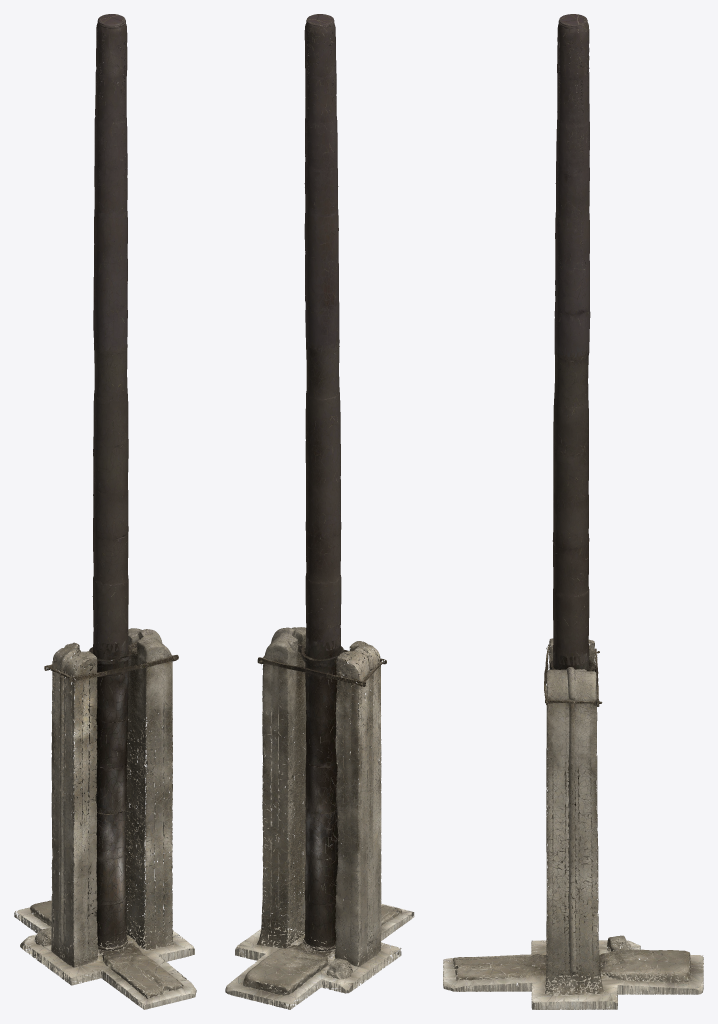
File: cheoldanggan.glb
The picture shows the model from 3 angles, left to right: view 1: azimuth 30°, elevation 25°; view 2: azimuth 150°, elevation 25°; view 3: azimuth 270°, elevation 25°; orthographic projection. The views are drawn at different scales.
Parts seen in each view (by area): view 1: Object_2, Object_4, Object_5, Object_3, Object_6; view 2: Object_4, Object_2, Object_5, Object_3, Object_6; view 3: Object_2, Object_3, Object_5, Object_6, Object_4.
Part boxes in pixels (left/top/right/bottom): Object_2: left=92, top=94, right=128, bottom=652; Object_4: left=19, top=638, right=189, bottom=1004; Object_5: left=15, top=647, right=191, bottom=1009; Object_3: left=14, top=14, right=196, bottom=1009; Object_6: left=61, top=642, right=172, bottom=852; Object_4: left=228, top=636, right=401, bottom=1007; Object_2: left=304, top=91, right=341, bottom=650; Object_5: left=239, top=656, right=414, bottom=1007; Object_3: left=225, top=14, right=413, bottom=1009; Object_6: left=262, top=641, right=386, bottom=852; Object_2: left=552, top=92, right=590, bottom=665; Object_3: left=443, top=14, right=703, bottom=1009; Object_5: left=443, top=640, right=703, bottom=1006; Object_6: left=545, top=638, right=598, bottom=899; Object_4: left=450, top=649, right=703, bottom=1009.
Size of the model in its own units: 1.85 by 13.34 by 3.29.
1 material, 1 textured.
